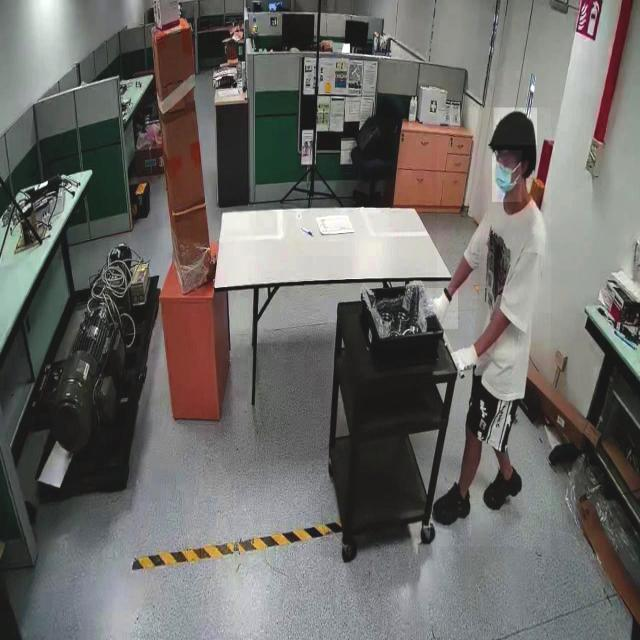face_mask: (492, 150, 522, 202)
hand_glove: (426, 288, 458, 329), (448, 340, 484, 376)
head_nohelmet: (493, 108, 537, 146)
person: (437, 108, 551, 548)
shoes: (432, 475, 473, 528), (482, 461, 522, 513)
